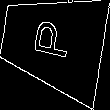P_W: (30, 20, 76, 66)
